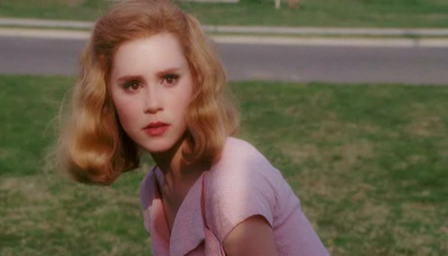cu: (1, 1, 448, 256)
face: (109, 50, 191, 153)
person: (41, 1, 329, 256)
